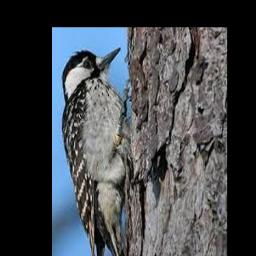Woodpecker: (61, 47, 149, 256)
